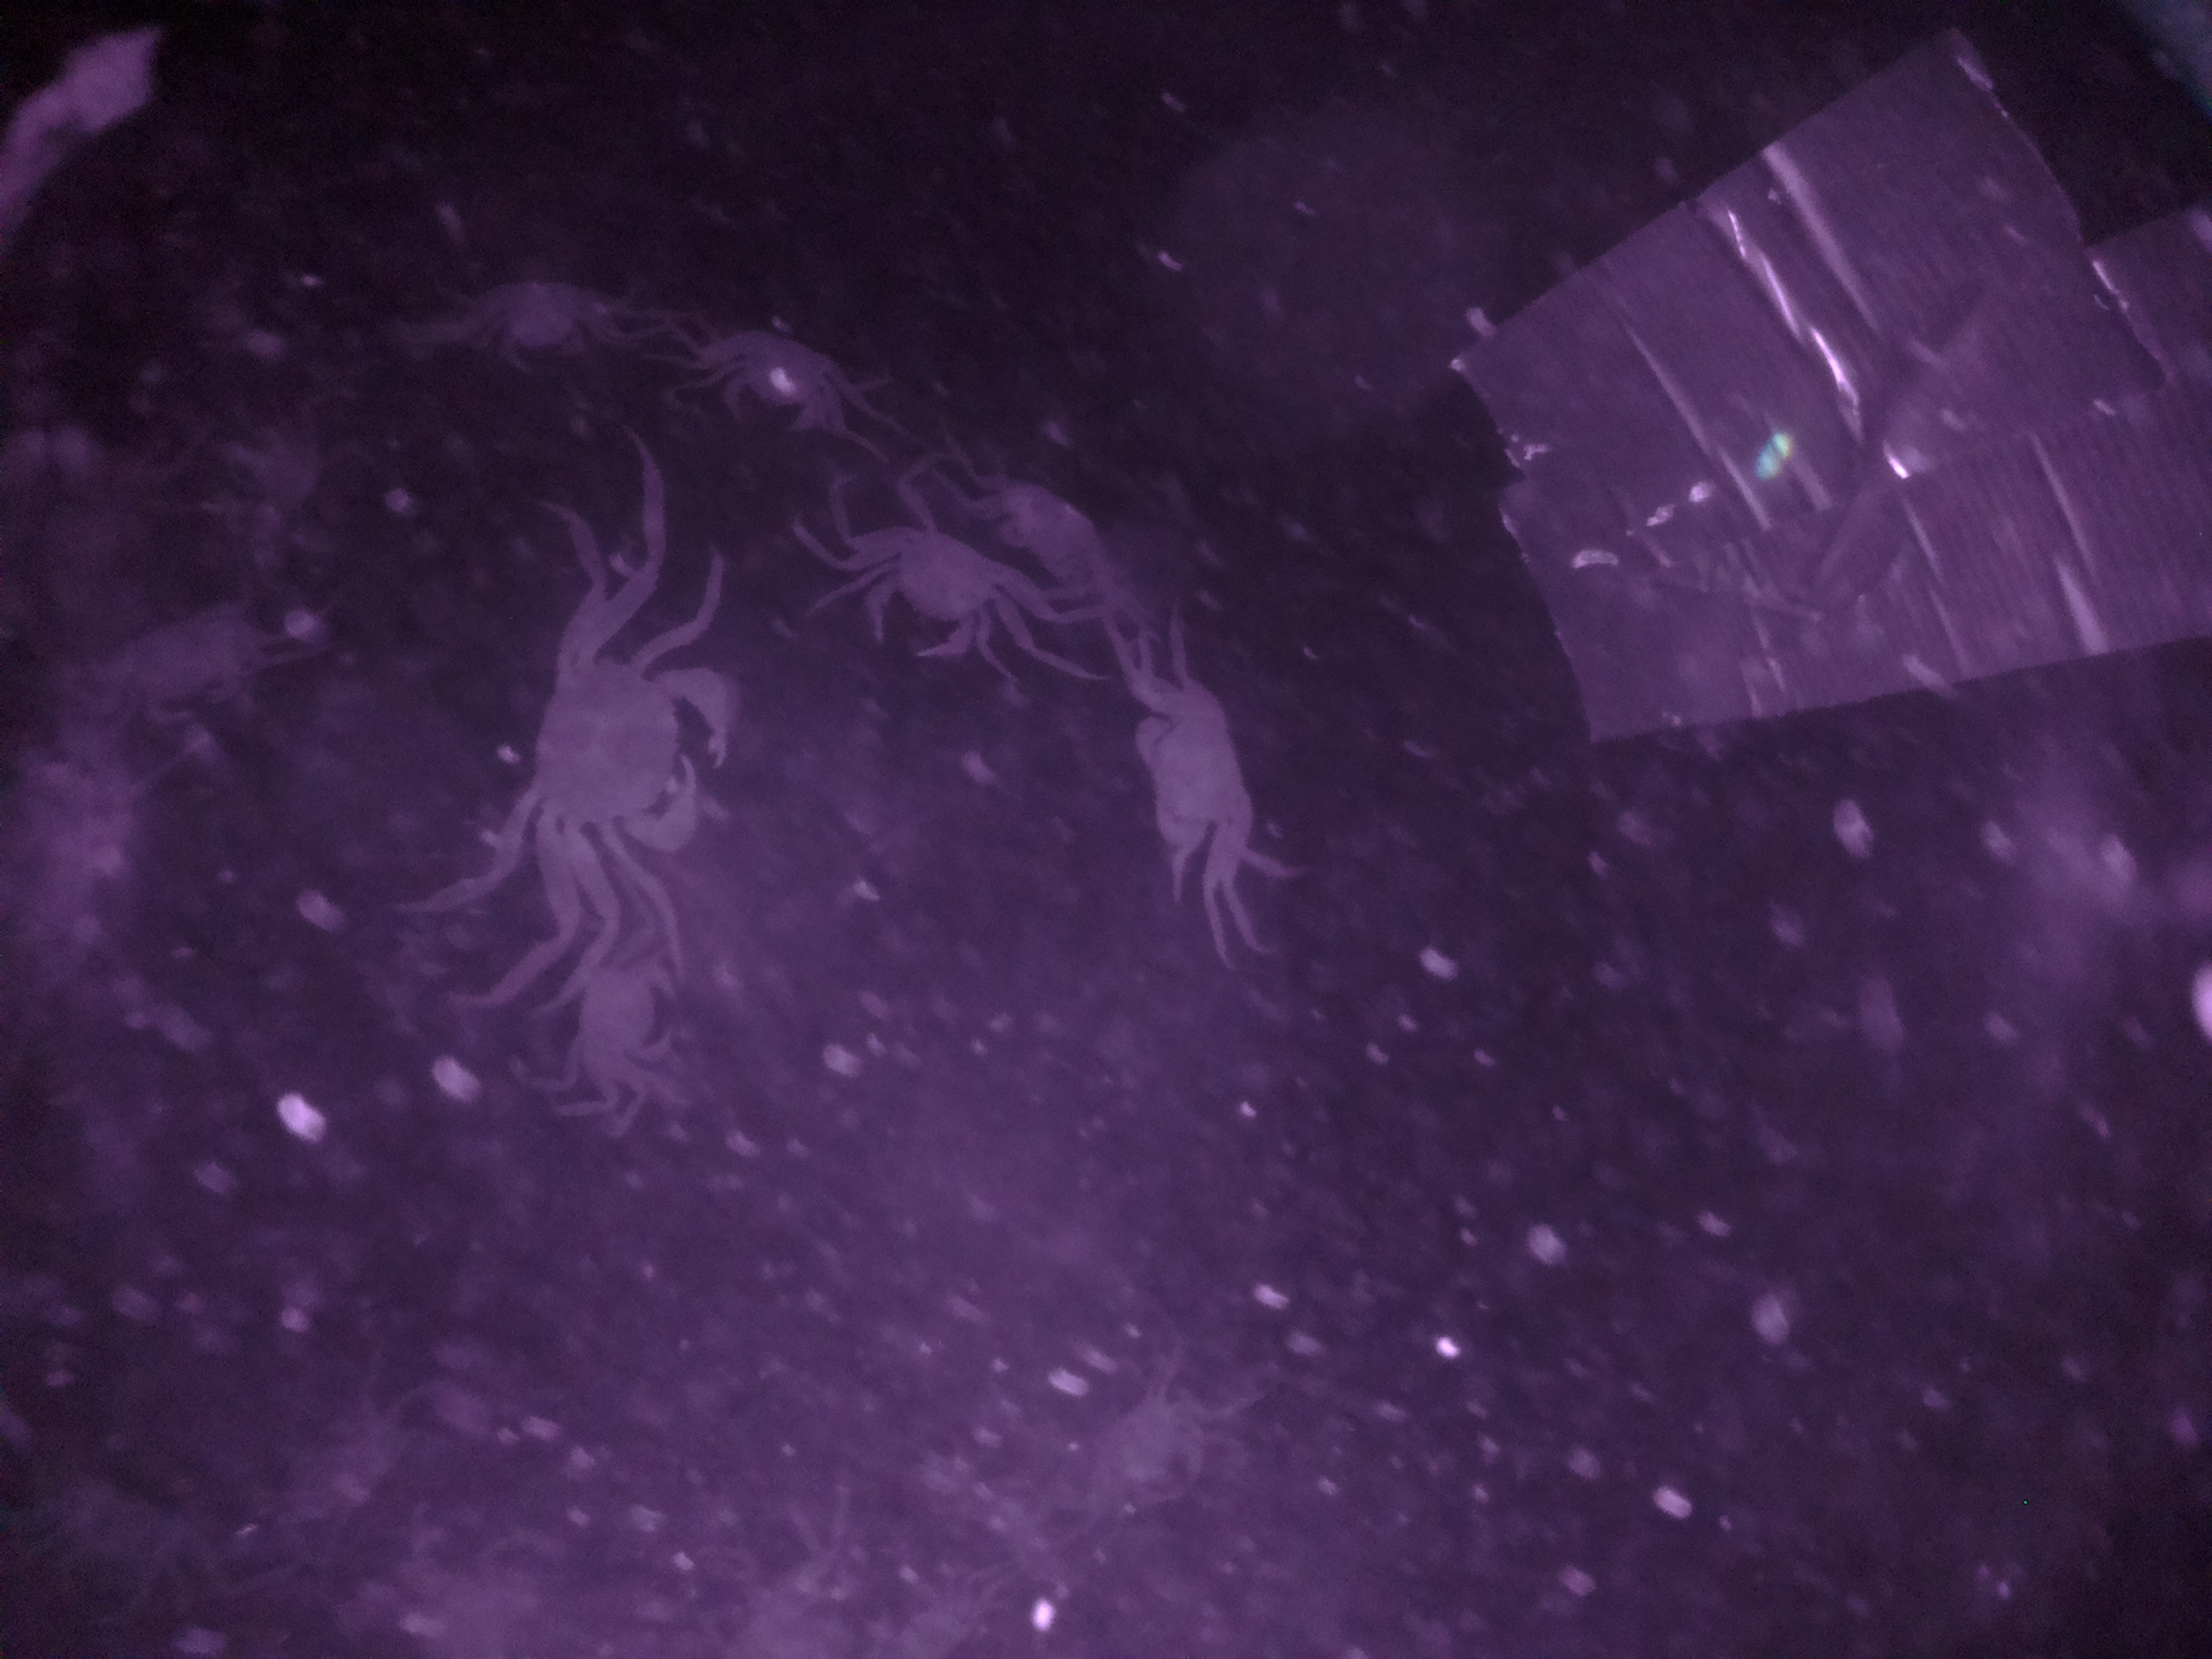Crab: (512, 612, 761, 877), (1122, 660, 1277, 875), (833, 511, 1022, 673), (554, 922, 697, 1089), (695, 312, 866, 441)
